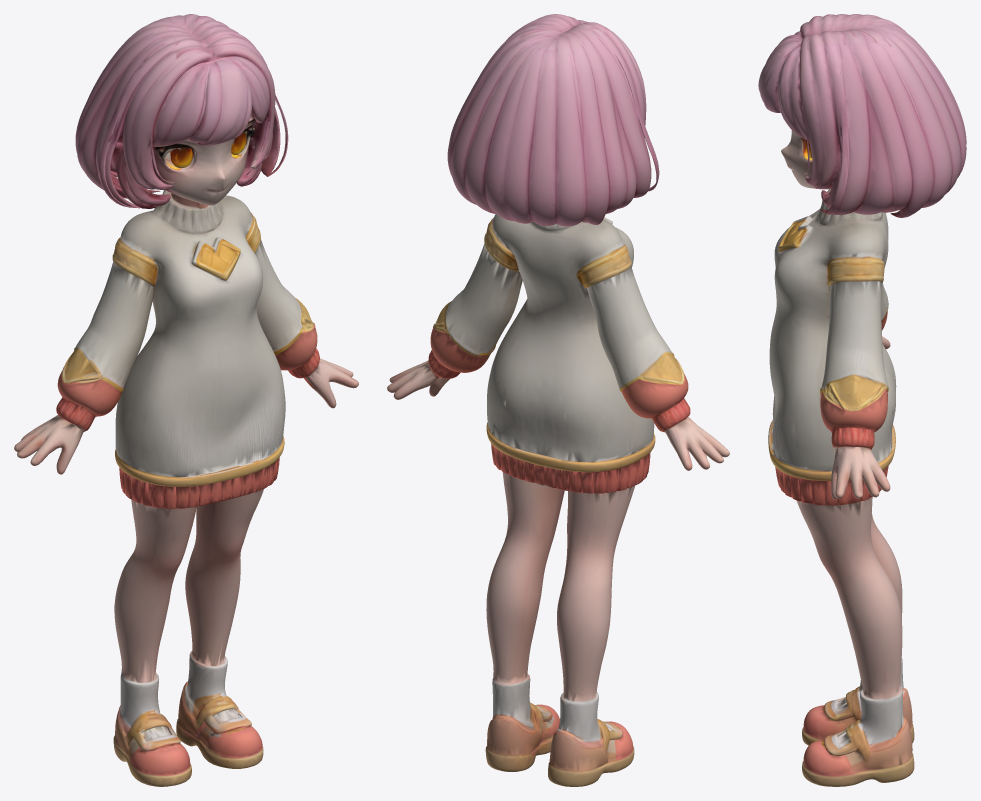
The model's file is assistant.glb.
3 views of the same model, side by side, from view 1: azimuth 30°, elevation 25°; view 2: azimuth 150°, elevation 25°; view 3: azimuth 270°, elevation 25° (orthographic).
Parts seen in each view (by area): view 1: node_0; view 2: node_0; view 3: node_0.
Part boxes in pixels (x1=…): node_0: x1=14, y1=14, x2=358, y2=786; node_0: x1=387, y1=14, x2=729, y2=786; node_0: x1=758, y1=14, x2=966, y2=786.
Bounding box in the file's own units: 0.5645 × 1.18 × 0.3032.
Materials: 1 (1 with a texture image).
